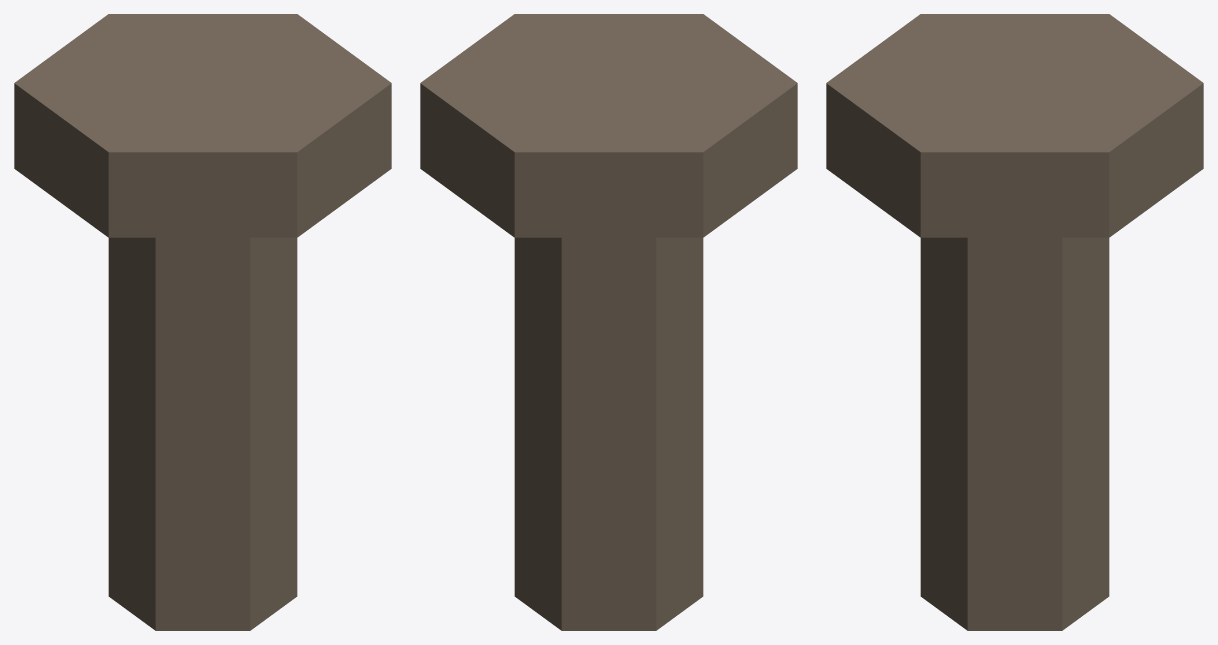
The model's file is steampunk_bolt.fbx.
3 views of the same model, side by side, from view 1: azimuth 30°, elevation 25°; view 2: azimuth 150°, elevation 25°; view 3: azimuth 270°, elevation 25° (orthographic).
Visible parts, largest first — view 1: Cylinder.017; view 2: Cylinder.017; view 3: Cylinder.017.
Boxes of the visible parts, x1,y1,x2,y2 form: Cylinder.017: [14, 14, 391, 630]; Cylinder.017: [420, 14, 797, 630]; Cylinder.017: [826, 14, 1203, 630].
Bounding box in the file's own units: 0.3464 × 0.6 × 0.4.
